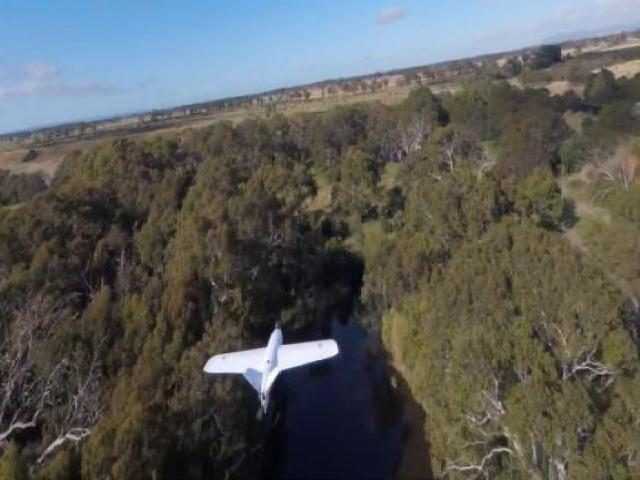uav: (205, 327, 340, 414)
